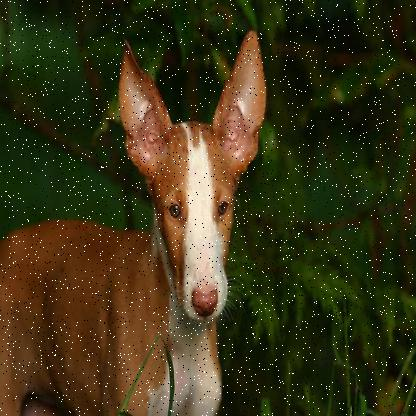dog: (37, 26, 274, 415)
